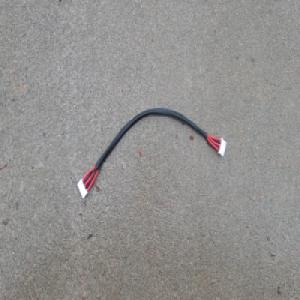Wire: (76, 105, 227, 200)
